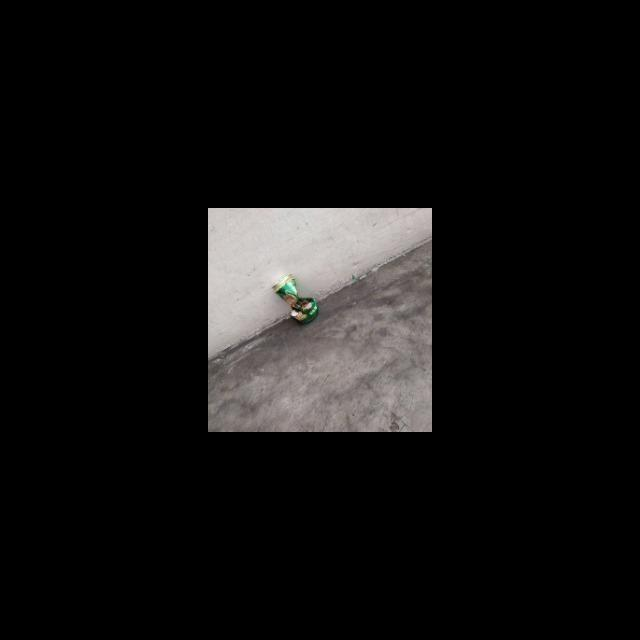metal: (259, 266, 335, 341)
